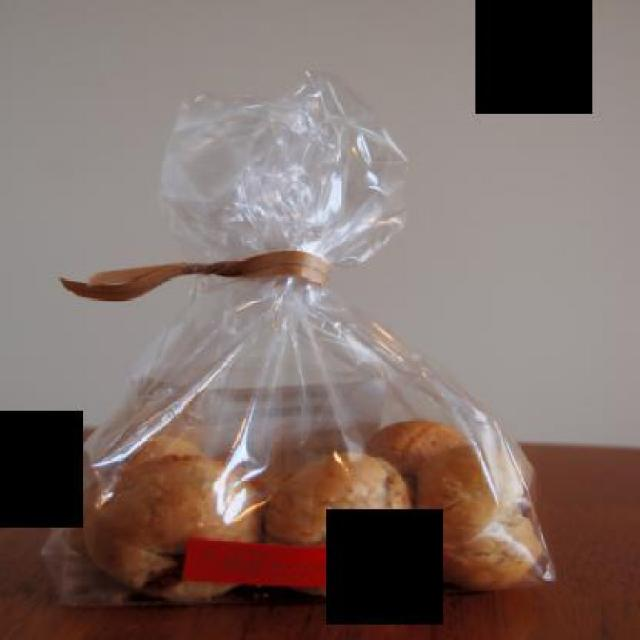plastic bag: (39, 110, 538, 592)
